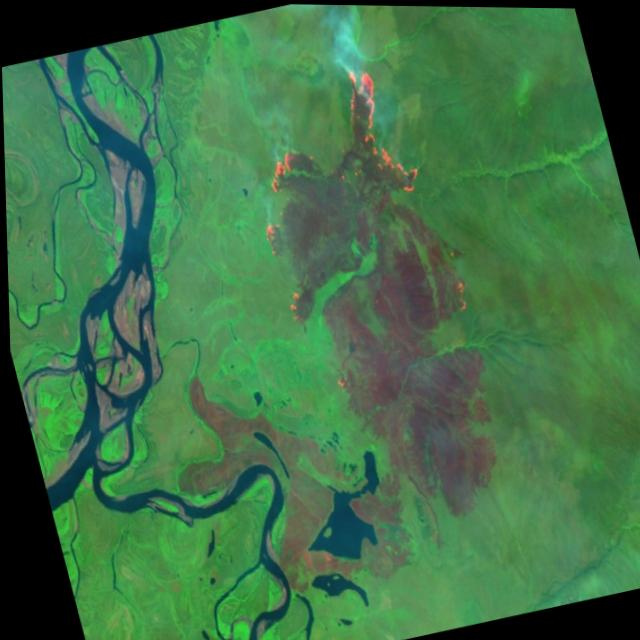fire: (221, 48, 434, 247)
